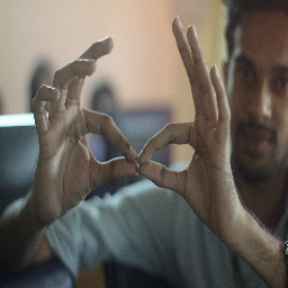B: (63, 86, 212, 208)
